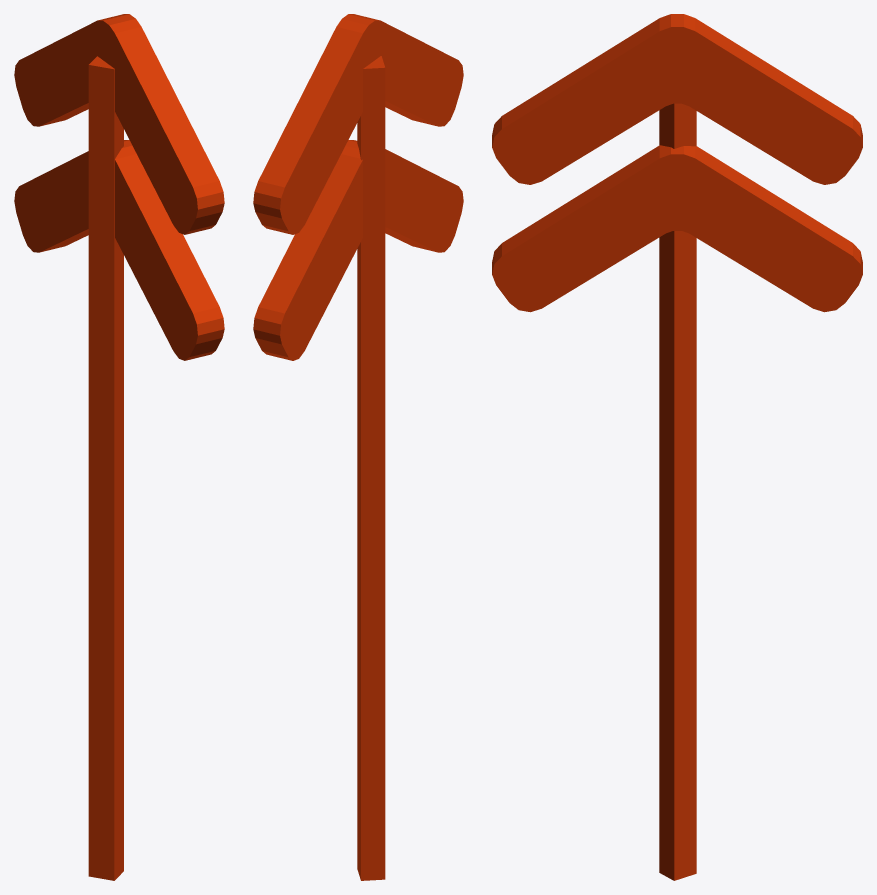
Rendered from 01_doublejump.fbx.
3 renders of one model, left to right at view 1: azimuth 30°, elevation 25°; view 2: azimuth 150°, elevation 25°; view 3: azimuth 270°, elevation 25°, orthographic.
Parts seen in each view (by area): view 1: Plane.008; view 2: Plane.008; view 3: Plane.008.
Part boxes in pixels (<box>): Plane.008: <box>14,14,224,880</box>; Plane.008: <box>253,14,463,880</box>; Plane.008: <box>492,14,862,880</box>.
Size of the model in its own units: 0.2548 by 1.92 by 4.91.
